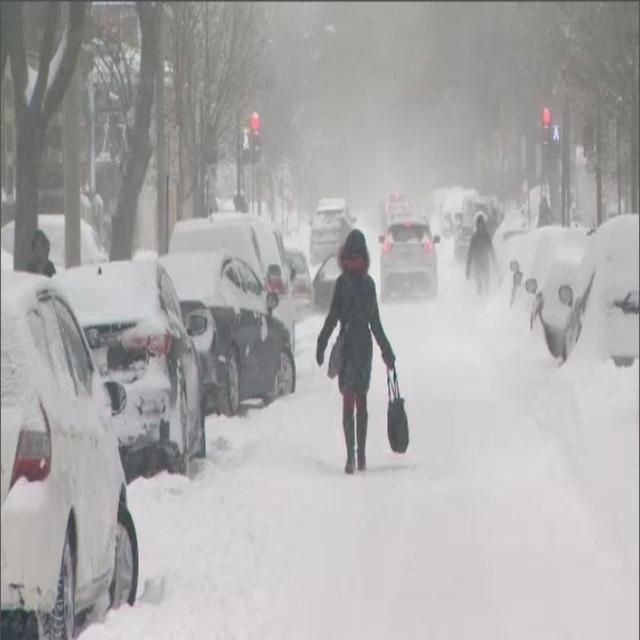Car: (0, 221, 144, 640), (52, 203, 201, 443), (202, 241, 300, 407), (170, 186, 310, 291), (382, 195, 445, 306), (307, 164, 362, 280)
